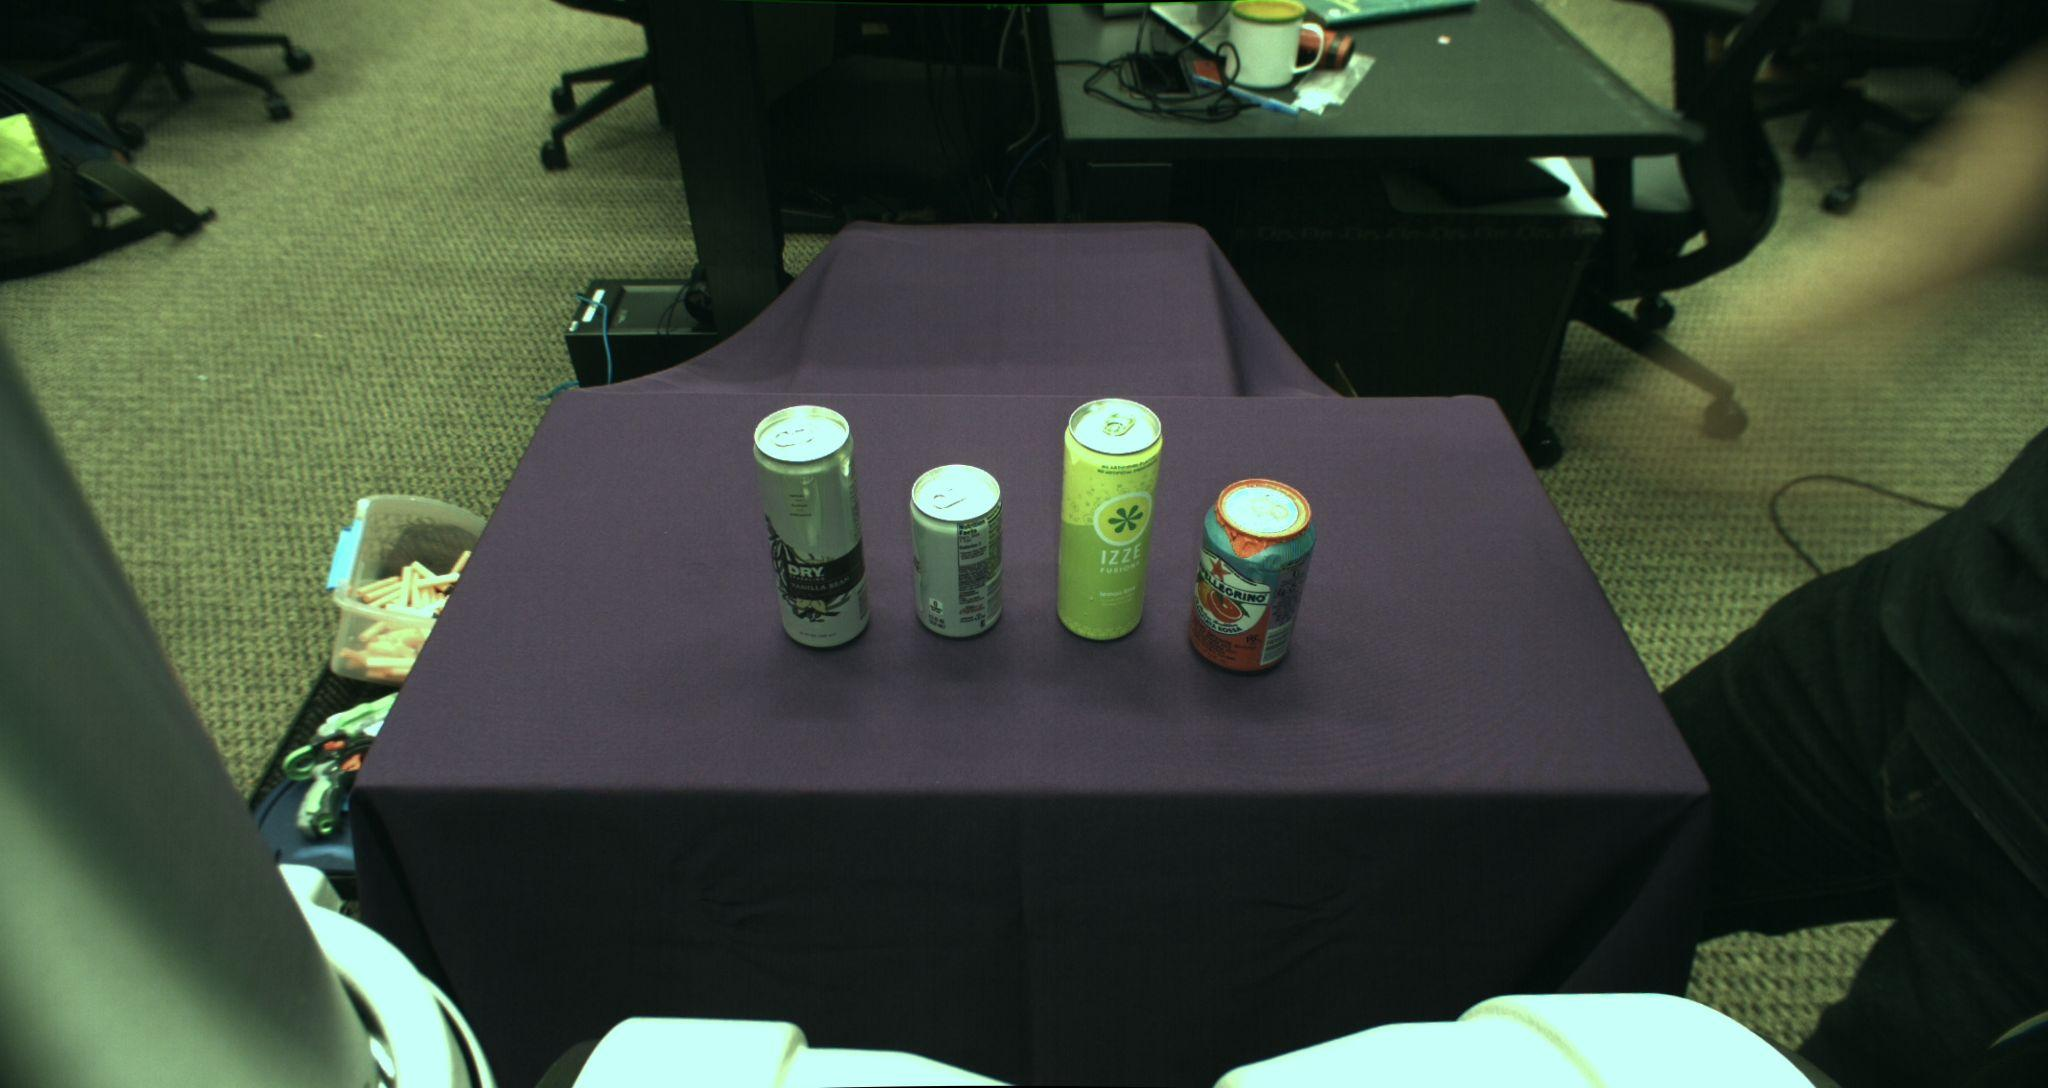can_diet_coke_small: (908, 463, 1005, 638)
can_dry_sparkling_vanilla_bean: (753, 404, 871, 649)
can_izze_fusions_lemon_lime: (1057, 396, 1164, 640)
can_sanpellegrino_blood_orange: (1191, 478, 1317, 673)
